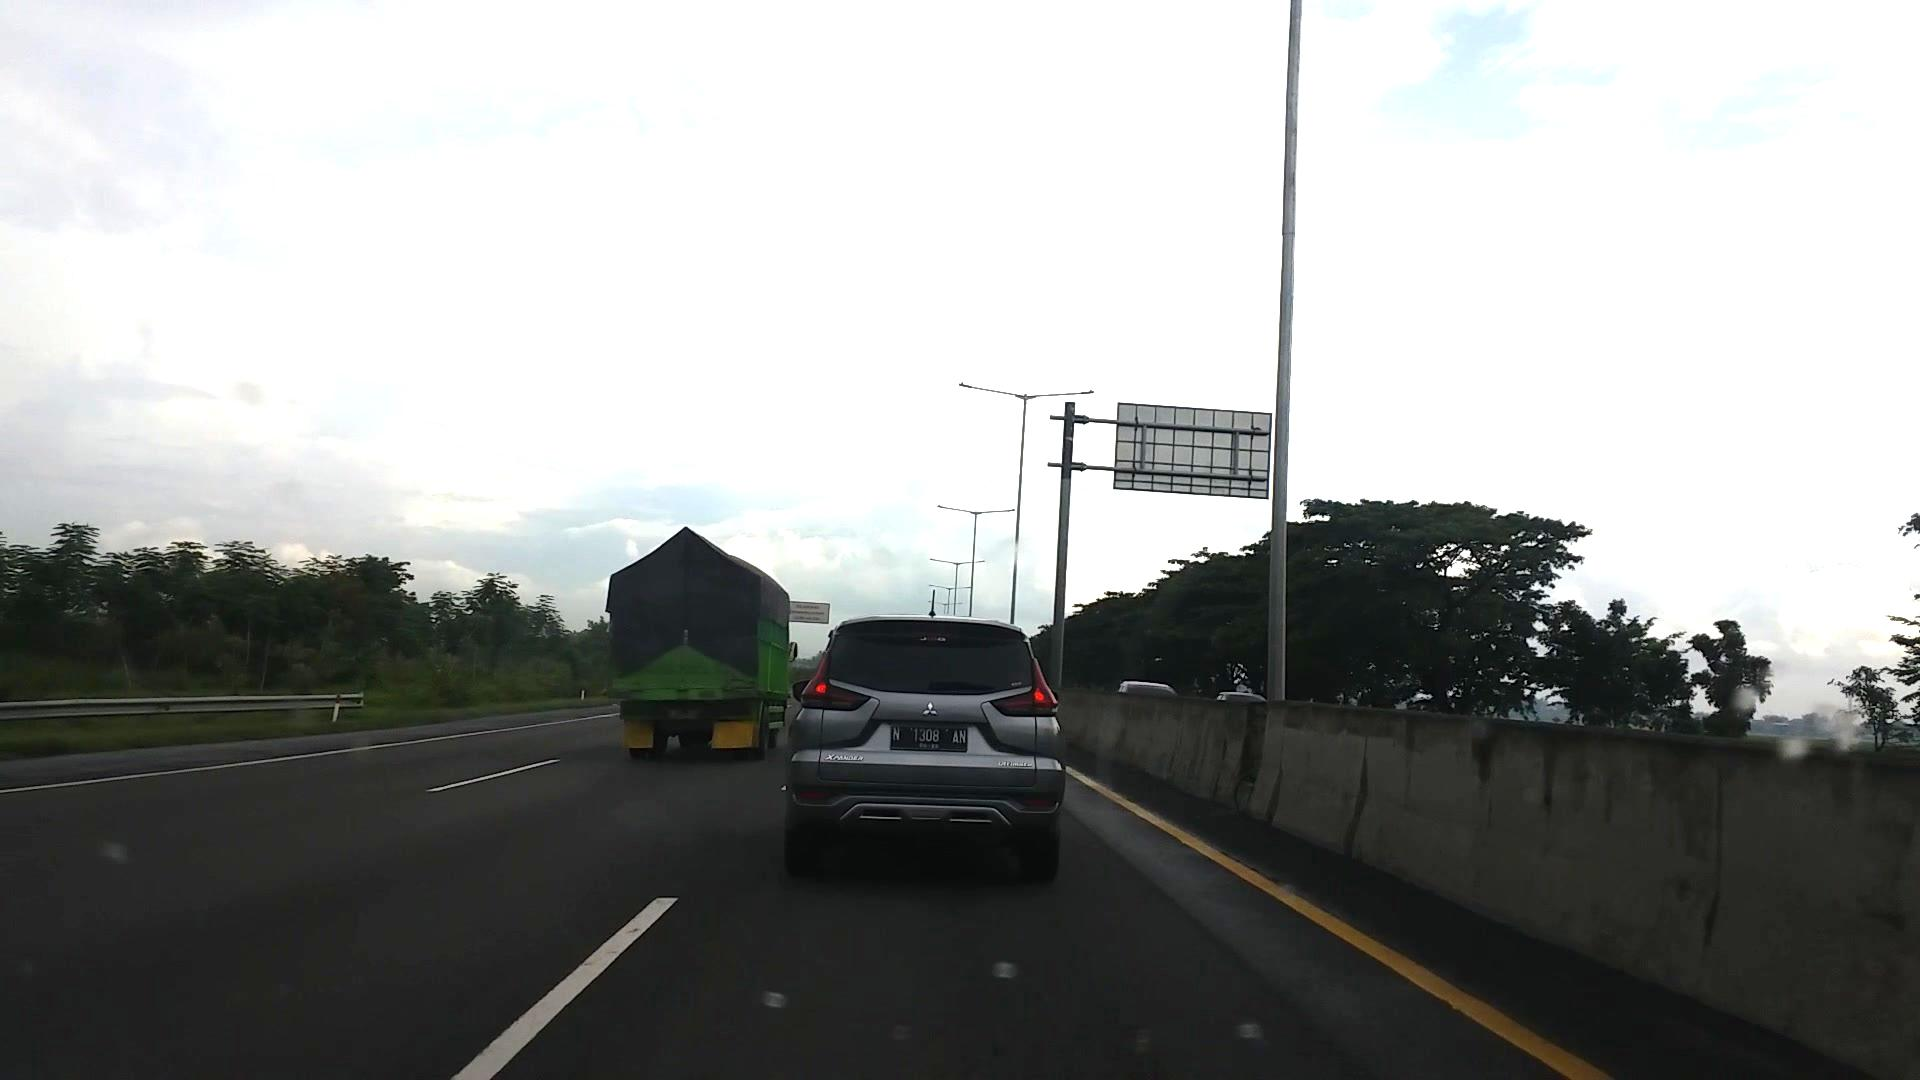plate_positive: (890, 724, 968, 753)
